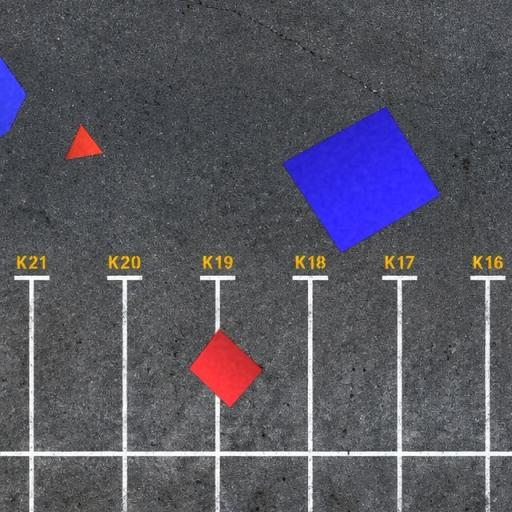BLUE_SQUARE: (282, 106, 440, 254)
RED_SQUARE: (188, 329, 264, 409)
